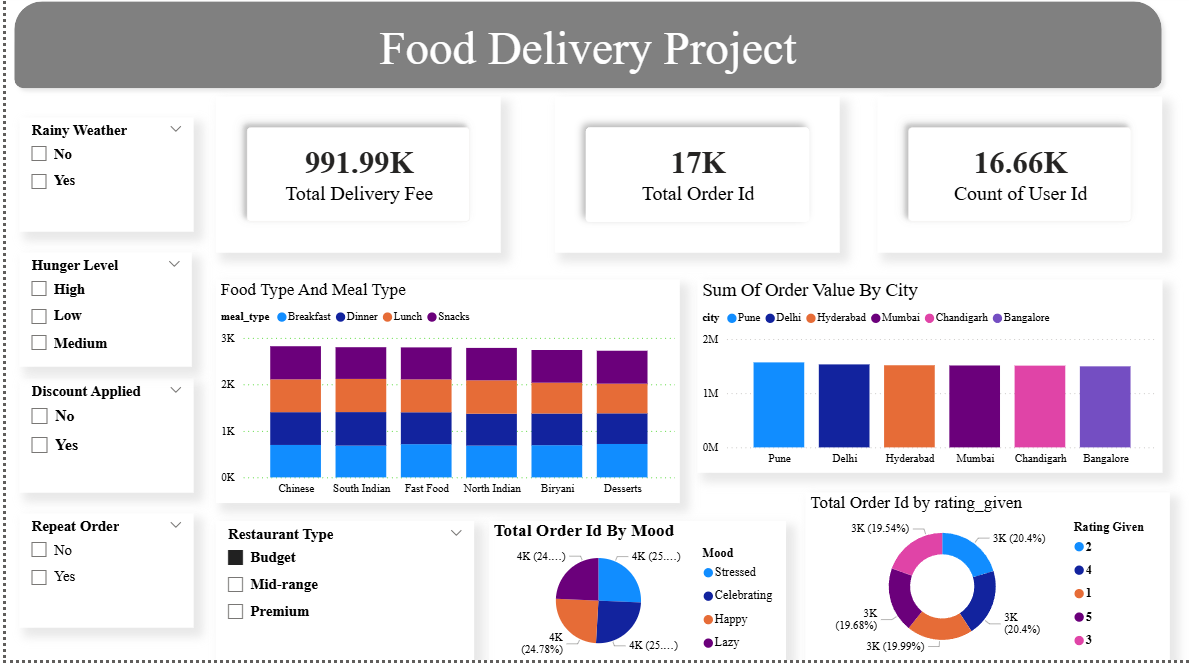

What the dashboard file says about the page in this screenshot:
{"tool":"powerbi","page":{"name":"Page 1","canvas":[1280,720],"ordinal":0},"visuals":[{"type":"shape","box":[0,0,1256.5,111.7],"z":0},{"type":"cardVisual","fields":{"Data":["customer_data.total order id"]},"box":[592.6,111.7,307.7,168.4],"z":1000},{"type":"cardVisual","fields":{"Data":["customer_data.total delivery fee"]},"box":[226.7,111.7,307.7,168.4],"z":2000},{"type":"cardVisual","fields":{"Data":["CountNonNull(customer_data.user_id)"]},"box":[940.8,111.7,307.7,168.4],"z":3000},{"type":"columnChart","title":"Food Type And Meal Type","fields":{"Category":["customer_data.cuisine"],"Y":["CountNonNull(customer_data.meal_type)"],"Series":["customer_data.meal_type"]},"box":[226.7,309.3,500.3,241.3],"z":4000},{"type":"columnChart","title":"Sum Of Order Value By City","fields":{"Category":["customer_data.city"],"Y":["Sum(customer_data.order_value)"],"Series":["customer_data.city"]},"box":[746.5,309.3,502,208.9],"z":5000},{"type":"slicer","fields":{"Values":["customer_data.rainy_weather"]},"box":[14.6,134.4,187.8,123.1],"z":6000},{"type":"slicer","fields":{"Values":["customer_data.discount_applied"]},"box":[14.6,416.1,187.8,123.1],"z":7000},{"type":"slicer","fields":{"Values":["customer_data.is_repeat_order"]},"box":[14.6,561.9,187.8,123.1],"z":8000},{"type":"slicer","fields":{"Values":["customer_data.hunger_level"]},"box":[14.6,280.1,186.2,123.1],"z":9000},{"type":"pieChart","title":"Total Order Id By Mood","fields":{"Category":["customer_data.mood"],"Y":["customer_data.total order id"]},"box":[521.4,570,320.6,150.6],"z":10000},{"type":"donutChart","fields":{"Y":["customer_data.Total Order Id"],"Category":["customer_data.rating_given"]},"box":[863,539.2,393.5,181.4],"z":11000},{"type":"slicer","fields":{"Values":["customer_data.restaurant_type"]},"box":[226.7,570,278.5,150.6],"z":12000},{"type":"textbox","box":[260.7,22.7,799.9,68],"z":13000}]}

Visuals, with their boxes in screenshot pixels (x1, y1, x2, y2), scaled from the page's 1280x720 canvas onto the 1189x667 screenshot:
shape: bbox(0, 0, 1167, 103)
cardVisual - customer_data.total order id: bbox(550, 103, 836, 259)
cardVisual - customer_data.total delivery fee: bbox(211, 103, 496, 259)
cardVisual - CountNonNull(customer_data.user_id): bbox(874, 103, 1160, 259)
"Food Type And Meal Type" columnChart: bbox(211, 287, 675, 510)
"Sum Of Order Value By City" columnChart: bbox(693, 287, 1160, 480)
slicer - customer_data.rainy_weather: bbox(14, 125, 188, 239)
slicer - customer_data.discount_applied: bbox(14, 385, 188, 500)
slicer - customer_data.is_repeat_order: bbox(14, 521, 188, 635)
slicer - customer_data.hunger_level: bbox(14, 259, 187, 374)
"Total Order Id By Mood" pieChart: bbox(484, 528, 782, 666)
donutChart - customer_data.Total Order Id x customer_data.rating_given: bbox(802, 500, 1167, 666)
slicer - customer_data.restaurant_type: bbox(211, 528, 469, 666)
textbox: bbox(242, 21, 985, 84)
